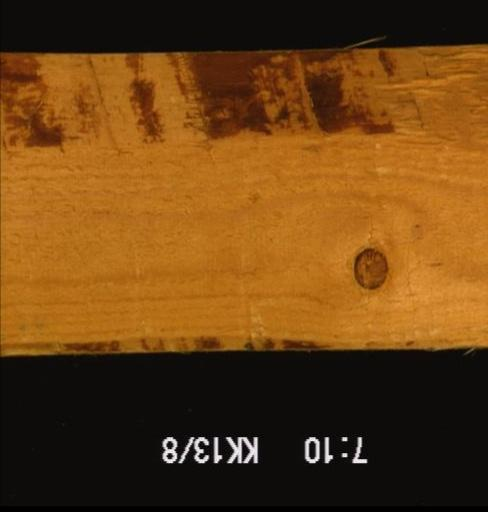wave: (0, 51, 486, 170), (0, 326, 320, 355)
